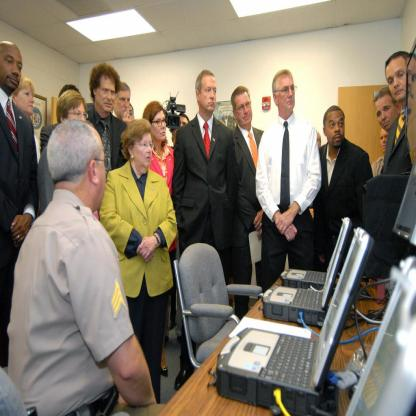board: (213, 226, 374, 412), (346, 257, 416, 416), (262, 217, 350, 326), (279, 262, 330, 288)
